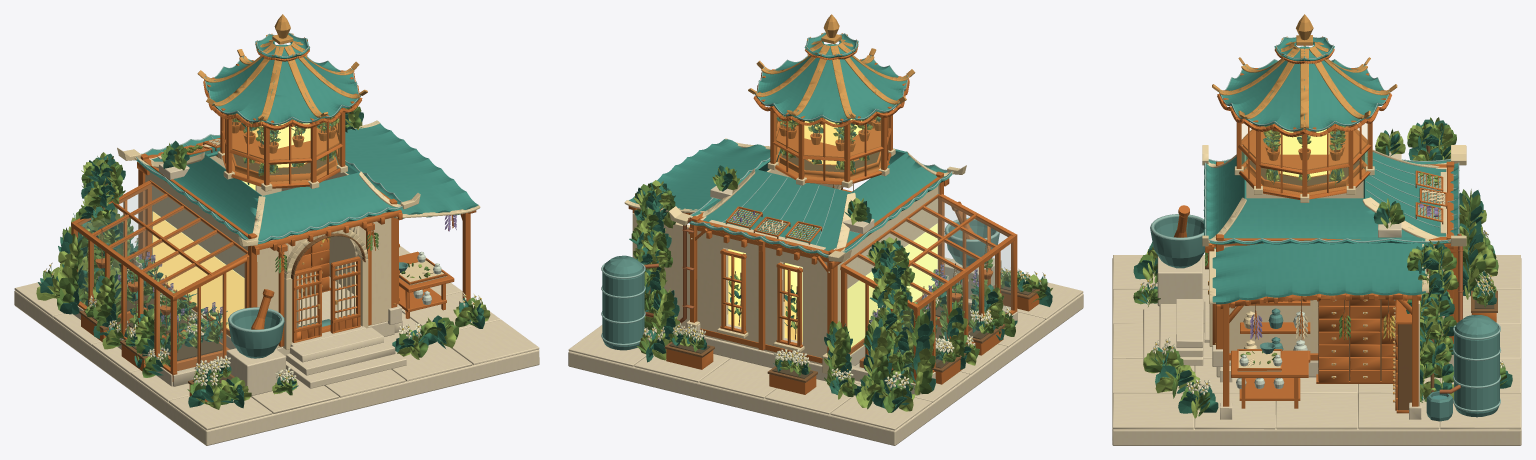
Rendered from herb-lod0-06b4884a1939.glb.
3 renders of one model, left to right at view 1: azimuth 30°, elevation 25°; view 2: azimuth 150°, elevation 25°; view 3: azimuth 270°, elevation 25°, orthographic. The views are drawn at different scales.
Parts seen in each view (by area): view 1: RFbatch_0.030, RFbatch_6.030, RFbatch_17.030, RFbatch_46.030, RFbatch_56.030, RFbatch_2.030, RFbatch_55.030, RFbatch_83.020, RFbatch_99.017, RFbatch_8.030, RFbatch_81.020, RFbatch_18.030 (+4 smaller); view 2: RFbatch_6.030, RFbatch_0.030, RFbatch_17.030, RFbatch_2.030, RFbatch_46.030, RFbatch_55.030, RFbatch_56.030, RFbatch_81.020, RFbatch_99.017, RFbatch_8.030, RFbatch_83.020, RFbatch_22.030 (+5 smaller); view 3: RFbatch_0.030, RFbatch_17.030, RFbatch_6.030, RFbatch_81.020, RFbatch_55.030, RFbatch_56.030, RFbatch_46.030, RFbatch_83.020, RFbatch_8.030, RFbatch_2.030, RFbatch_18.030, RFbatch_29.030 (+5 smaller).
Boxes of the visible parts, box(x1,y1,x2,y2) form: RFbatch_0.030: box(14, 163, 539, 445); RFbatch_6.030: box(71, 44, 476, 401); RFbatch_17.030: box(136, 33, 478, 244); RFbatch_46.030: box(43, 106, 478, 404); RFbatch_56.030: box(38, 108, 484, 408); RFbatch_2.030: box(145, 144, 391, 348); RFbatch_55.030: box(36, 107, 490, 409); RFbatch_83.020: box(117, 120, 480, 349); RFbatch_99.017: box(152, 121, 310, 337); RFbatch_8.030: box(197, 14, 395, 308); RFbatch_81.020: box(228, 262, 408, 358); RFbatch_18.030: box(136, 32, 402, 332); RFbatch_6.030: box(628, 44, 1039, 394); RFbatch_0.030: box(568, 185, 1083, 445); RFbatch_17.030: box(629, 33, 952, 257); RFbatch_2.030: box(632, 165, 939, 364); RFbatch_46.030: box(631, 112, 1047, 412); RFbatch_55.030: box(633, 113, 1052, 411); RFbatch_56.030: box(629, 111, 1052, 412); RFbatch_81.020: box(602, 220, 999, 350); RFbatch_99.017: box(728, 119, 937, 354); RFbatch_8.030: box(748, 14, 915, 118); RFbatch_83.020: box(624, 138, 966, 373); RFbatch_22.030: box(943, 202, 1010, 309); RFbatch_0.030: box(1112, 151, 1521, 445); RFbatch_17.030: box(1203, 37, 1459, 304); RFbatch_6.030: box(1174, 48, 1496, 413); RFbatch_81.020: box(1150, 216, 1499, 421); RFbatch_55.030: box(1140, 117, 1497, 418); RFbatch_56.030: box(1133, 119, 1512, 413); RFbatch_46.030: box(1133, 117, 1507, 416); RFbatch_83.020: box(1202, 145, 1466, 402); RFbatch_8.030: box(1208, 14, 1397, 402); RFbatch_2.030: box(1224, 167, 1446, 406); RFbatch_18.030: box(1150, 37, 1500, 411); RFbatch_29.030: box(1205, 124, 1497, 410).
Bounding box in the file's own units: 10 × 9.33 × 10.
Materials: 22 (12 with a texture image).
